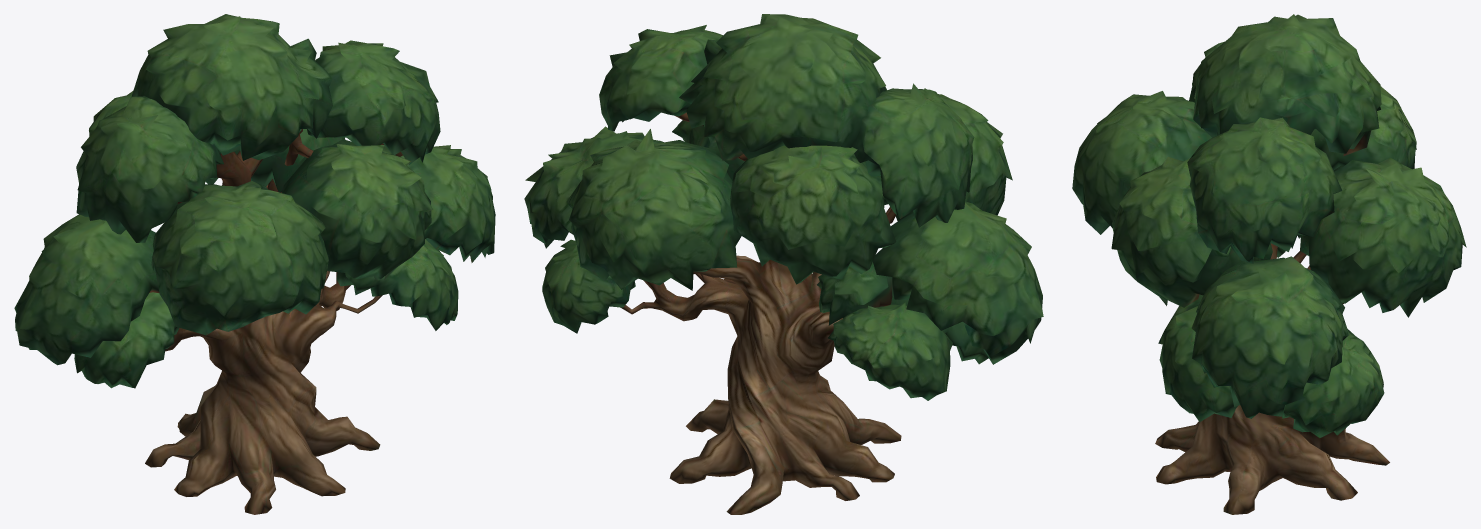
The model's file is tree.glb.
3 views of the same model, side by side, from view 1: azimuth 30°, elevation 25°; view 2: azimuth 150°, elevation 25°; view 3: azimuth 270°, elevation 25° (orthographic). The views are drawn at different scales.
Parts seen in each view (by area): view 1: geometry_0; view 2: geometry_0; view 3: geometry_0.
Boxes of the visible parts, box(x1,y1,x2,y2) form: geometry_0: box(14, 14, 495, 514); geometry_0: box(524, 14, 1043, 514); geometry_0: box(1072, 14, 1466, 514).
Bounding box in the file's own units: 0.9609 × 0.8374 × 0.6836.
Materials: 1 (1 with a texture image).
